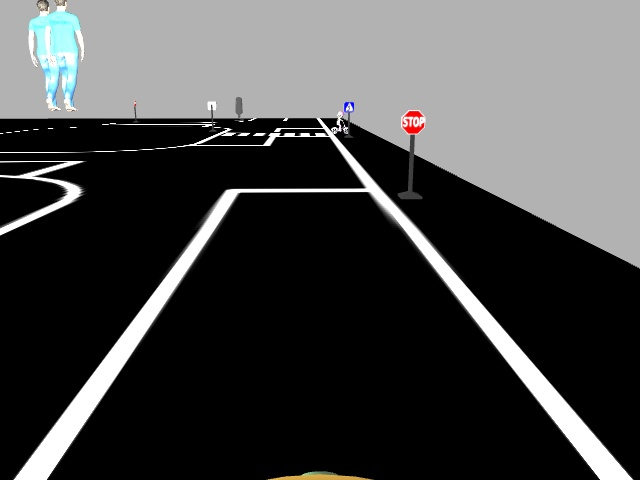Stop: (399, 108, 426, 135)
